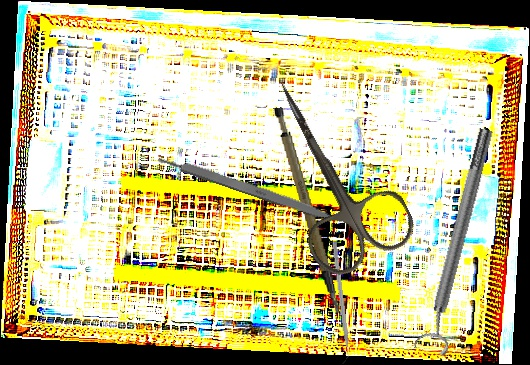Chopper: (325, 240, 352, 365)
Fixation Ring: (410, 125, 507, 357)
Iris Scissors: (236, 56, 422, 285)
Scalpel Handle: (270, 103, 341, 318), (156, 150, 339, 225)
